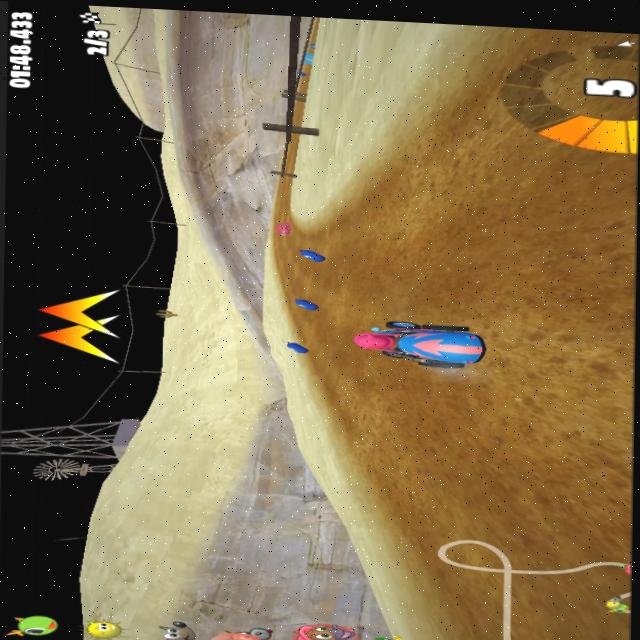nitro: (292, 247, 337, 267), (283, 296, 320, 310), (286, 338, 310, 355)
track: (483, 26, 638, 372), (449, 367, 635, 640), (331, 199, 470, 324), (396, 368, 447, 539), (365, 153, 482, 201), (354, 356, 392, 460), (392, 111, 469, 151), (316, 314, 345, 385), (274, 269, 325, 292), (266, 175, 288, 217), (285, 311, 311, 335), (270, 237, 288, 262), (280, 135, 294, 167)
